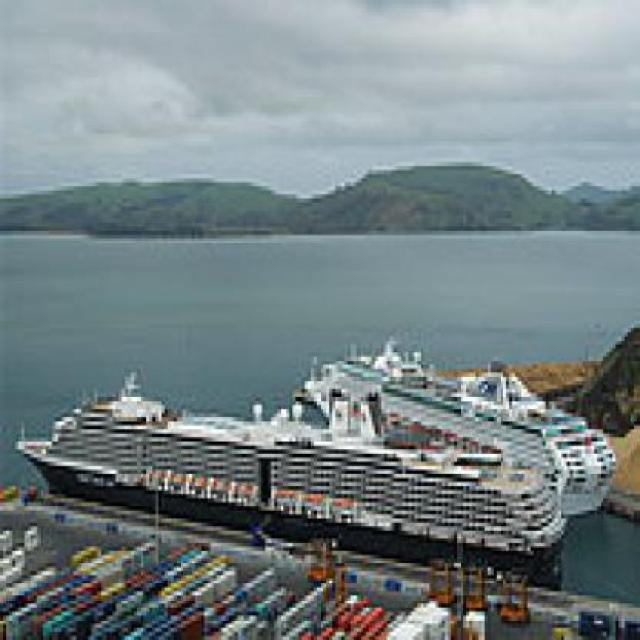cruise: (10, 362, 574, 580)
